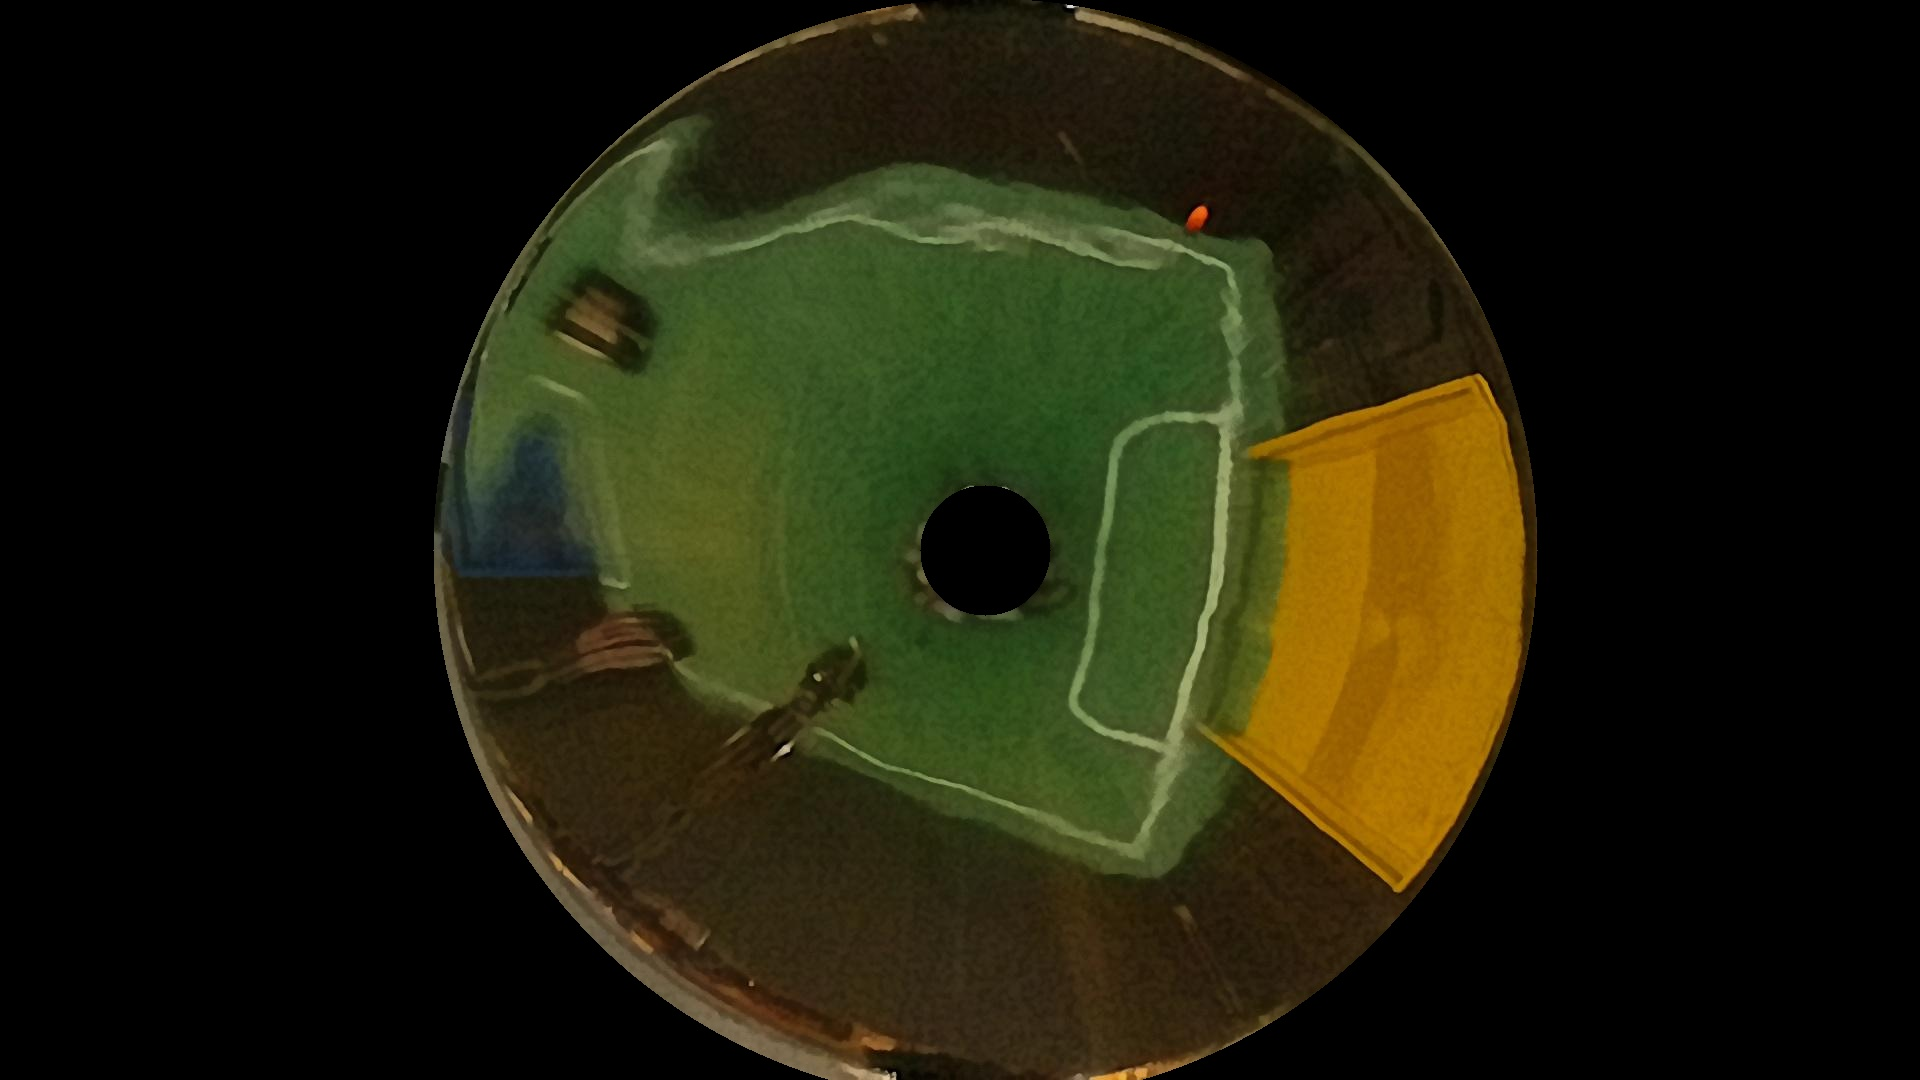ball: (1185, 204, 1207, 227)
blue-goal: (444, 434, 608, 575)
robots: (732, 644, 868, 766), (483, 609, 687, 687)
yellow-goal: (1211, 371, 1534, 880)
